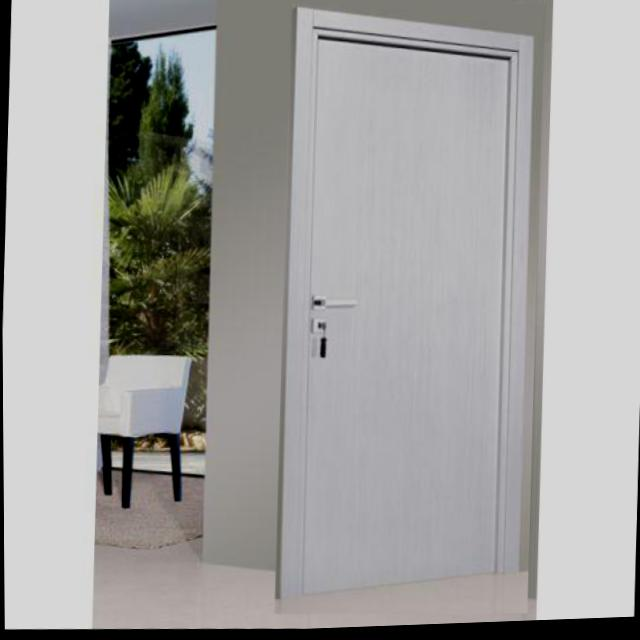close: (270, 0, 548, 626)
